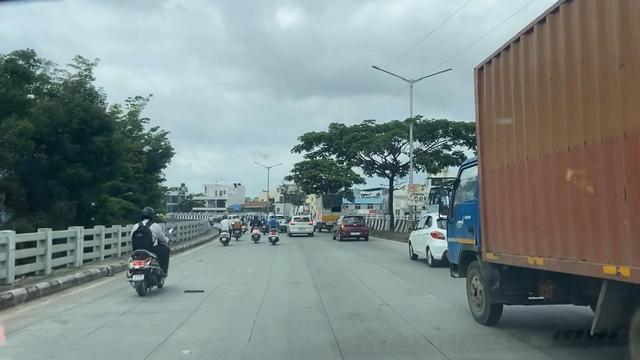LMV: (127, 205, 165, 292), (287, 214, 316, 238), (341, 216, 367, 242), (247, 213, 273, 234), (270, 213, 284, 246), (221, 219, 232, 245)
